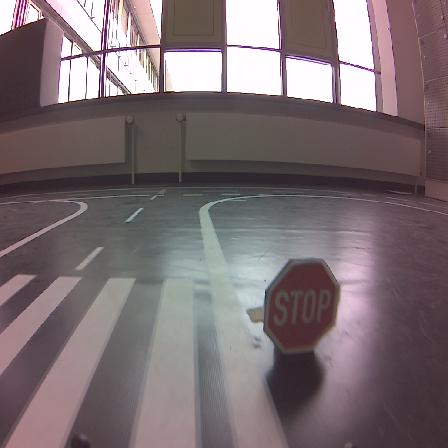STOP: (264, 259, 339, 353)
